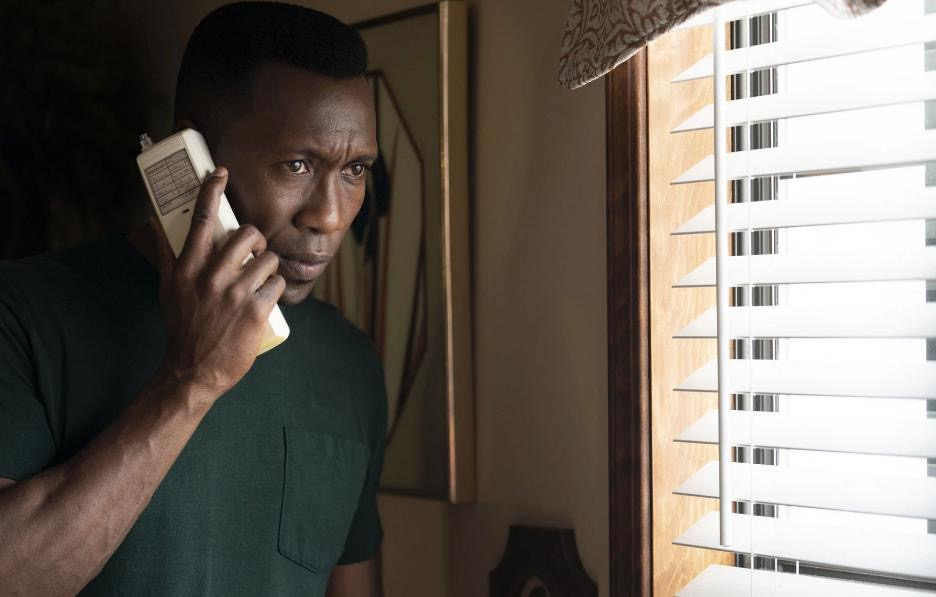person: (11, 19, 396, 596)
